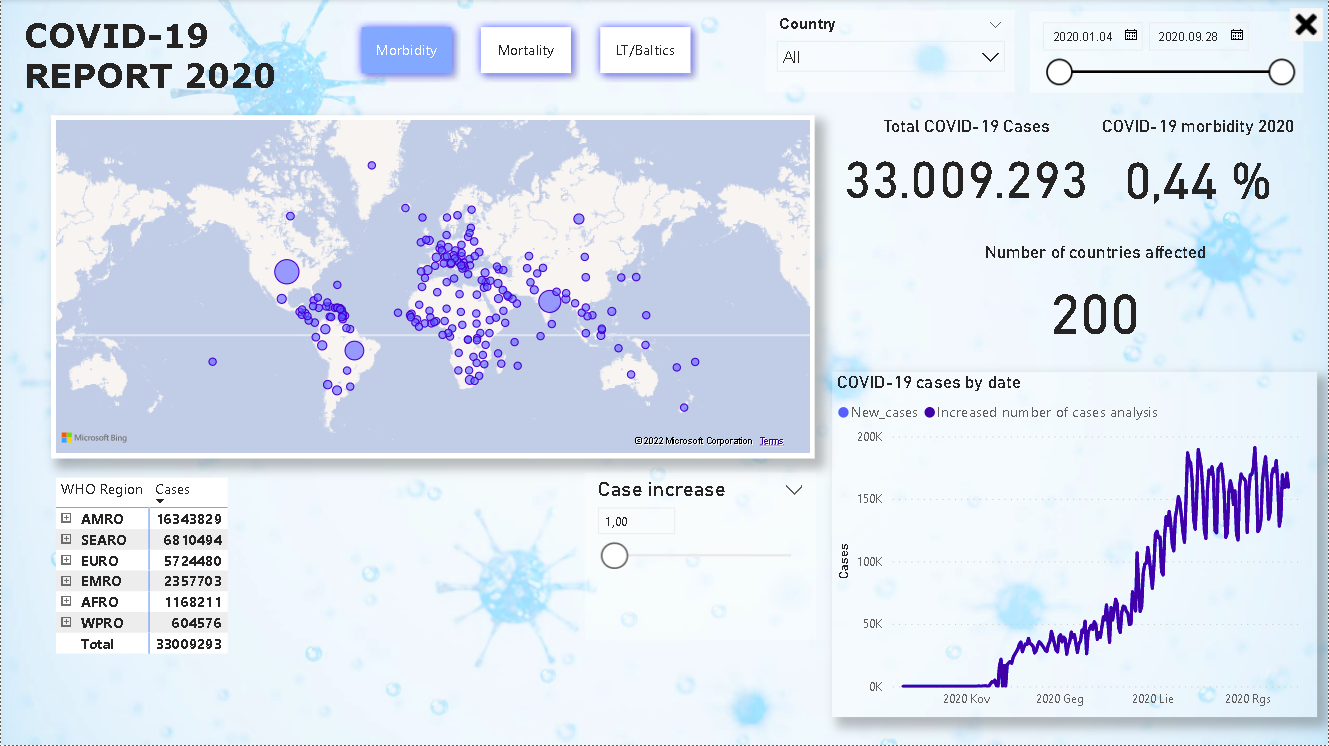

What the dashboard file says about the page in this screenshot:
{"tool":"powerbi","page":{"name":"Morbidity","canvas":[1280,720],"ordinal":0},"visuals":[{"type":"lineChart","title":"COVID-19 cases by date","fields":{"Category":["WHO-COVID-19-global-data.Date_reported"],"Y":["Sum(WHO-COVID-19-global-data.New_cases)","Calculated.Increased cases analysis"]},"box":[802.3,359.8,468.4,334],"z":0},{"type":"slicer","fields":{"Values":["WHO-COVID-19-global-data.Date_reported"]},"box":[992.6,12.1,264.1,78.4],"z":1000},{"type":"map","title":"Total COVID-19 cases by Country 2020","fields":{"Category":["WHO-COVID-19-global-data.Country"],"Size":["Sum(WHO-COVID-19-global-data.New_cases)"]},"box":[48.6,112.7,737.2,330.9],"z":2000},{"type":"textbox","box":[16.7,11.1,321.7,101.7],"z":3000},{"type":"slicer","fields":{"Values":["WHO-COVID-19-global-data.Country"]},"box":[738.1,10.9,240,79.6],"z":4000},{"type":"card","title":"COVID-19 morbidity 2020","fields":{"Values":["Table.COVID_morbidity_2020"]},"box":[1055.6,112.4,200,94.2],"z":5000},{"type":"card","title":"Total COVID-19 Cases","fields":{"Values":["Sum(Summarized_COVID19.Total cases)"]},"box":[806.5,112.6,249.5,94.5],"z":6000},{"type":"pivotTable","fields":{"Rows":["WHO-COVID-19-global-data.WHO_region","WHO-COVID-19-global-data.Country"],"Values":["Sum(WHO-COVID-19-global-data.New_cases)"]},"box":[48.3,456.8,337.9,236.4],"z":7000},{"type":"card","title":"Number of countries affected","fields":{"Values":["CountNonNull(Summarized_COVID19.Country)"]},"box":[941.9,233.7,228.5,107.5],"z":8000},{"type":"slicer","fields":{"Values":["Increased cases.Increased cases"]},"box":[562.7,456.8,222.9,161.6],"z":9000},{"type":"pageNavigator","box":[338.5,18.1,335.7,62.7],"z":10000},{"type":"image","box":[1238.2,0,41.8,50.1],"z":11000}]}

Visuals, with their boxes in screenshot pixels (x1, y1, x2, y2), scaled from the page's 1280x720 canvas onto the 1329x746 screenshot:
"COVID-19 cases by date" lineChart: box=[833, 373, 1319, 719]
slicer - WHO-COVID-19-global-data.Date_reported: box=[1031, 13, 1305, 94]
"Total COVID-19 cases by Country 2020" map: box=[50, 117, 816, 460]
textbox: box=[17, 12, 351, 117]
slicer - WHO-COVID-19-global-data.Country: box=[766, 11, 1016, 94]
"COVID-19 morbidity 2020" card: box=[1096, 116, 1304, 214]
"Total COVID-19 Cases" card: box=[837, 117, 1096, 215]
pivotTable - WHO-COVID-19-global-data.WHO_region x WHO-COVID-19-global-data.Country: box=[50, 473, 401, 718]
"Number of countries affected" card: box=[978, 242, 1215, 354]
slicer - Increased cases.Increased cases: box=[584, 473, 816, 641]
pageNavigator: box=[351, 19, 700, 84]
image: box=[1286, 0, 1328, 52]
